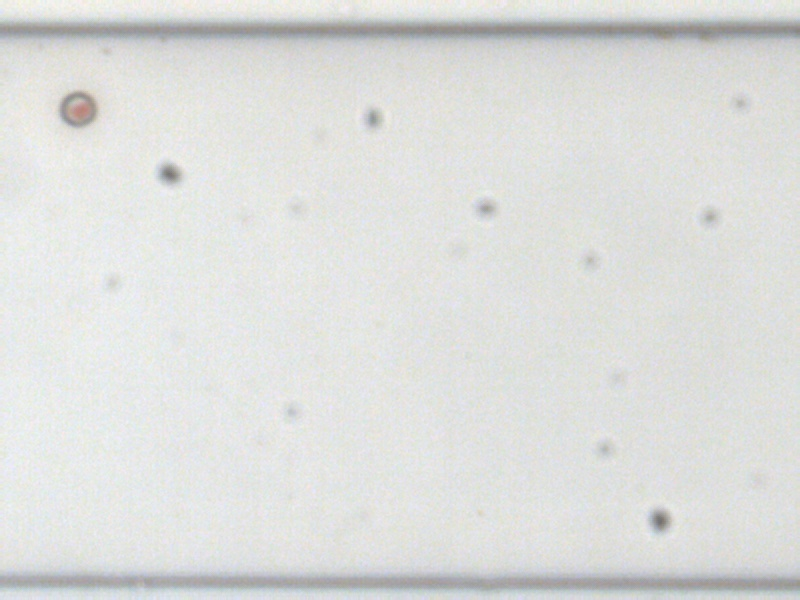Porphyridium: (59, 91, 99, 126)
